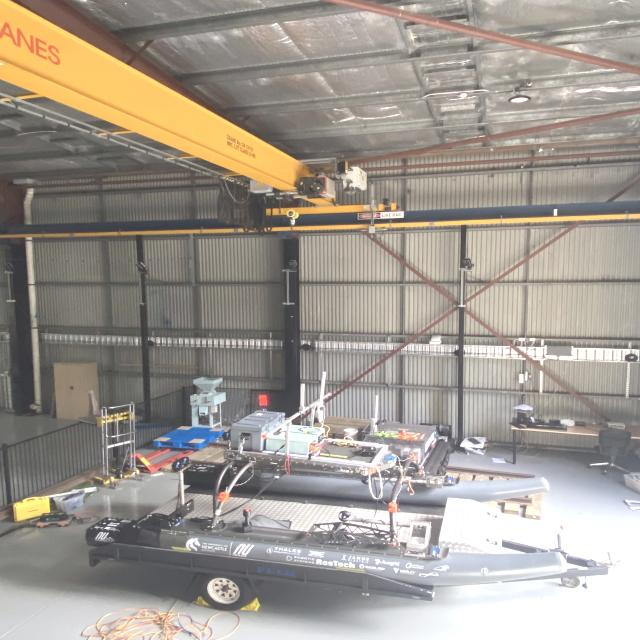matrix: (257, 393, 270, 406)
